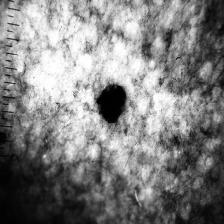Benign Marking or Mole: (96, 85, 132, 127)
